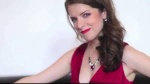female: (62, 1, 115, 48)
